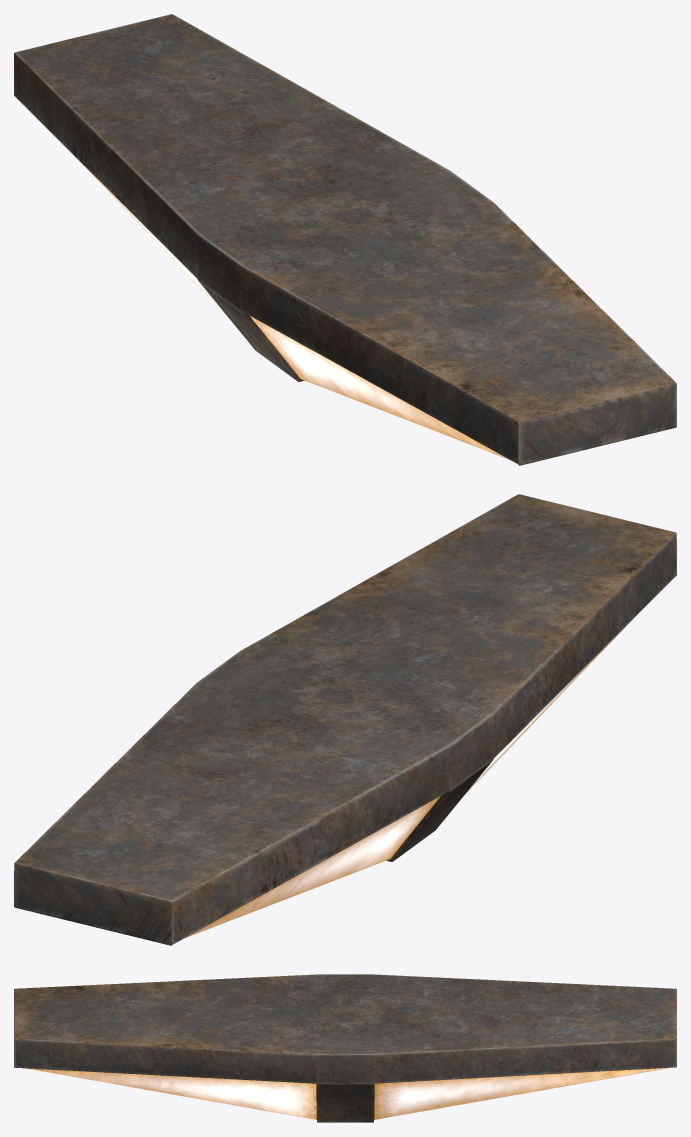
The model's file is xi_dsp_tube_light.gltf.
3 views of the same model, one above another, from view 1: azimuth 30°, elevation 25°; view 2: azimuth 150°, elevation 25°; view 3: azimuth 270°, elevation 25° (orthographic). The views are drawn at different scales.
Visible parts, largest first — view 1: xi_dsp_tube_light; view 2: xi_dsp_tube_light; view 3: xi_dsp_tube_light.
Boxes of the visible parts, x1,y1,x2,y2 form: xi_dsp_tube_light: (14,14,676,465); xi_dsp_tube_light: (14,494,676,945); xi_dsp_tube_light: (14,974,676,1122).
Size of the model in its own units: 0.5386 by 0.2684 by 1.86.
Materials: 1 (1 with a texture image).
